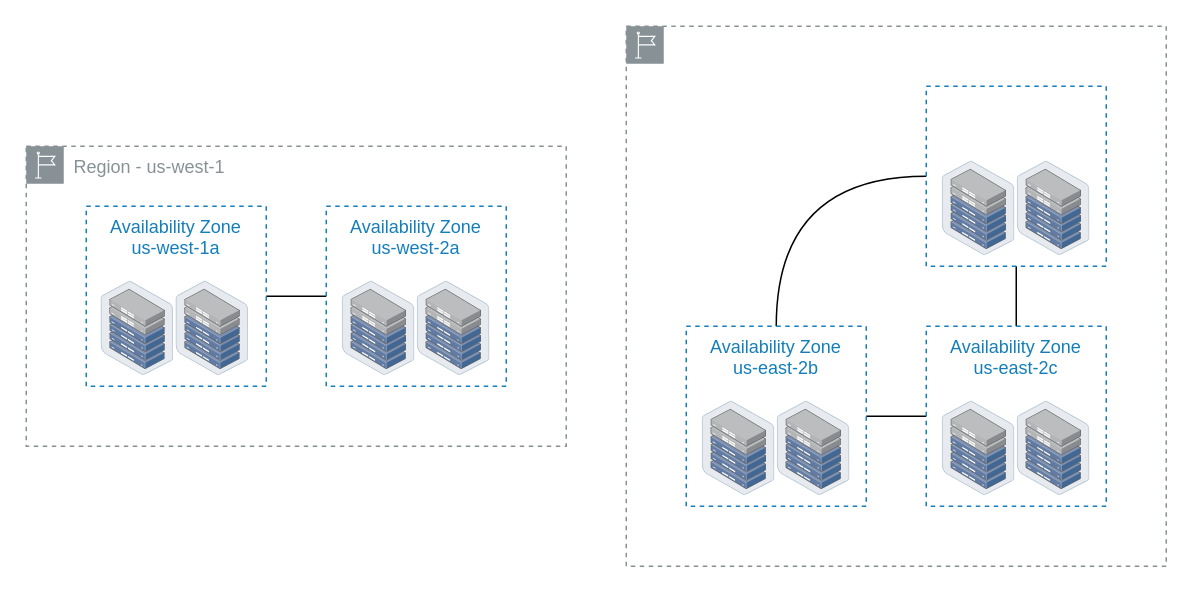
Image size: 1193x593. Some labels were removed from this diagram. The box of each missing label's shape, as (x1, y1, x2, y2) in pixels:
Availability Zone us-east-2a: (925, 85, 1106, 266)
Region - us-east-2: (625, 25, 1166, 566)
